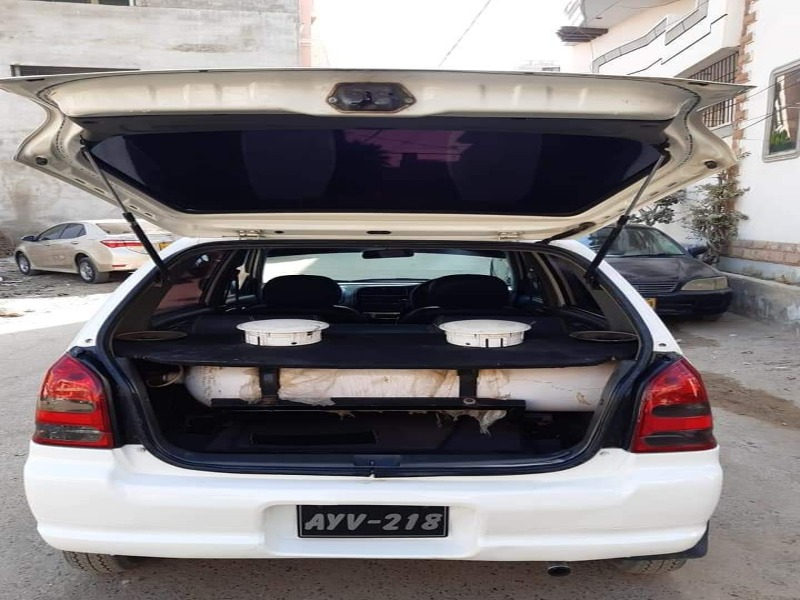License Plate: (294, 502, 455, 544)
